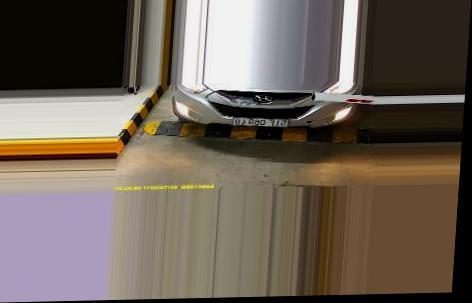License_Plate: (229, 114, 293, 129)
